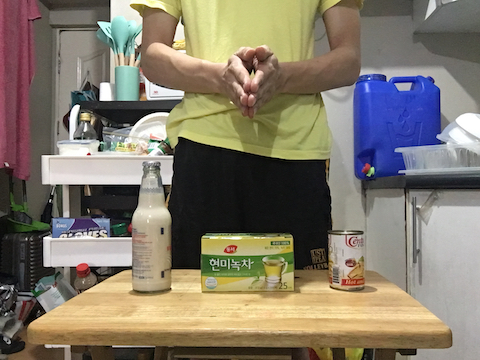bottle: (127, 160, 178, 298)
box: (194, 228, 303, 298)
can: (323, 225, 372, 293)
